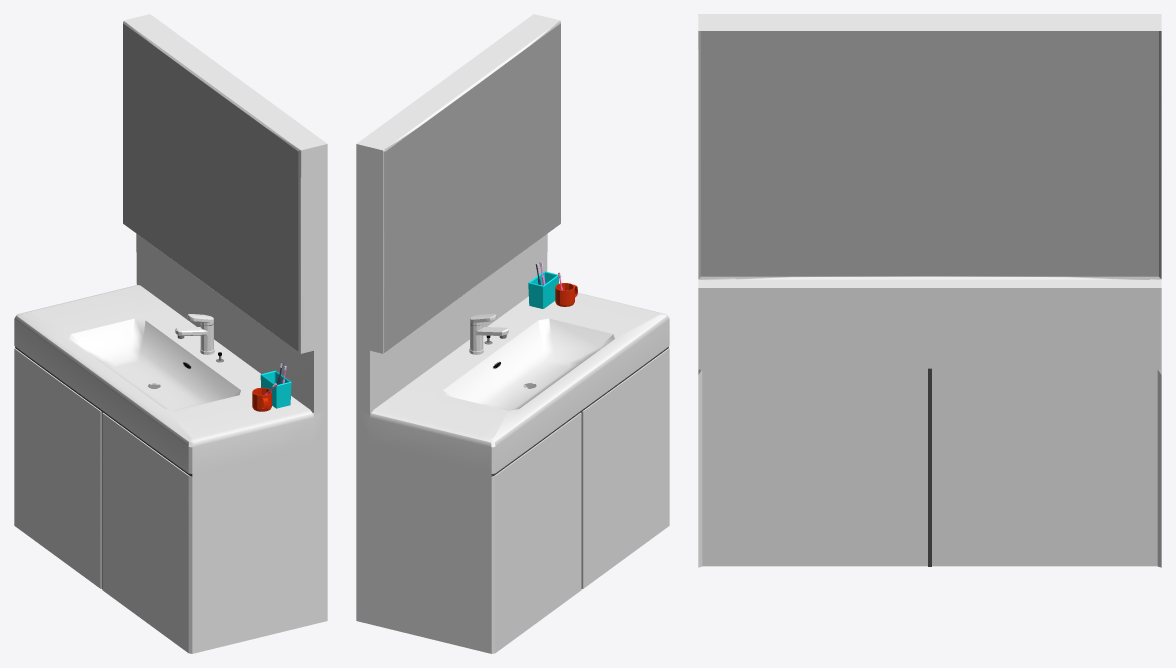
File: senmendai_A.fbx
The picture shows the model from 3 angles, left to right: view 1: azimuth 30°, elevation 25°; view 2: azimuth 150°, elevation 25°; view 3: azimuth 270°, elevation 25°; orthographic projection. The views are drawn at different scales.
Parts seen in each view (by area): view 1: pCube101; view 2: pCube101; view 3: pCube101.
Boxes of the visible parts, box(x1,y1,x2,y2) form: pCube101: box(14, 14, 327, 653); pCube101: box(356, 14, 669, 653); pCube101: box(698, 14, 1161, 567).
Size of the model in its own units: 3.71 by 12.31 by 8.31.
Materials: 1 (1 with a texture image).
